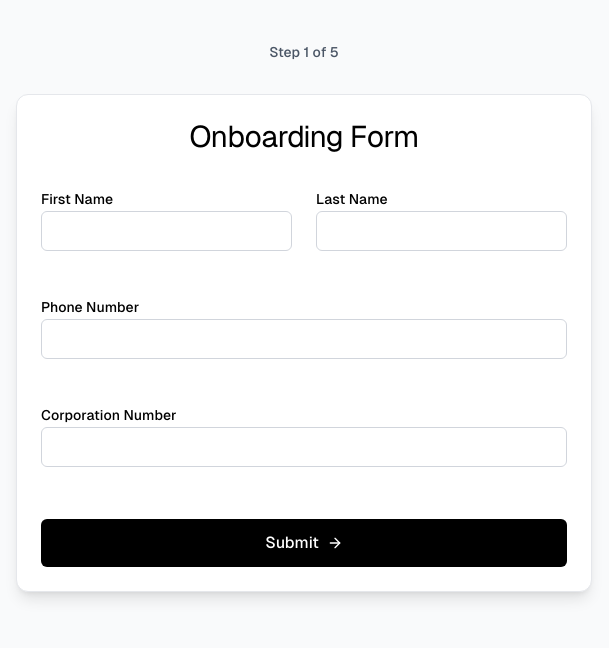
PersonalDetailsStep › displays API error message on failed submission
Fill form
In the field labelled "First Name": (166, 231) [41,211,292,251], type "John"
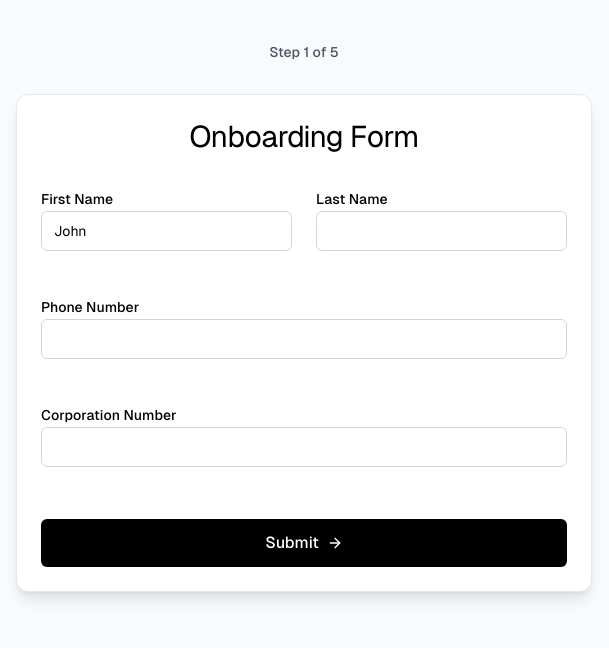
In the field labelled "Last Name": (442, 231) [316,211,567,251], type "Doe"
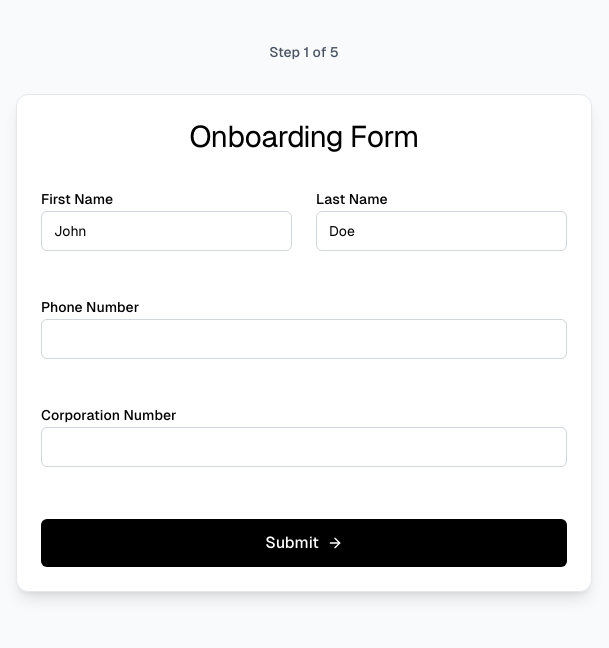
In the field labelled "Phone Number": (304, 339) [41,319,567,359], type "+13062776103"
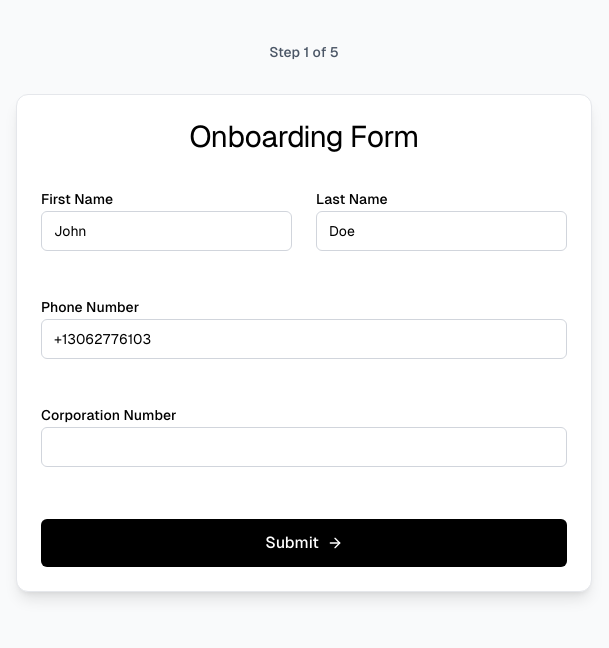
In the field labelled "Corporation Number": (304, 447) [41,427,567,467], type "123456789"
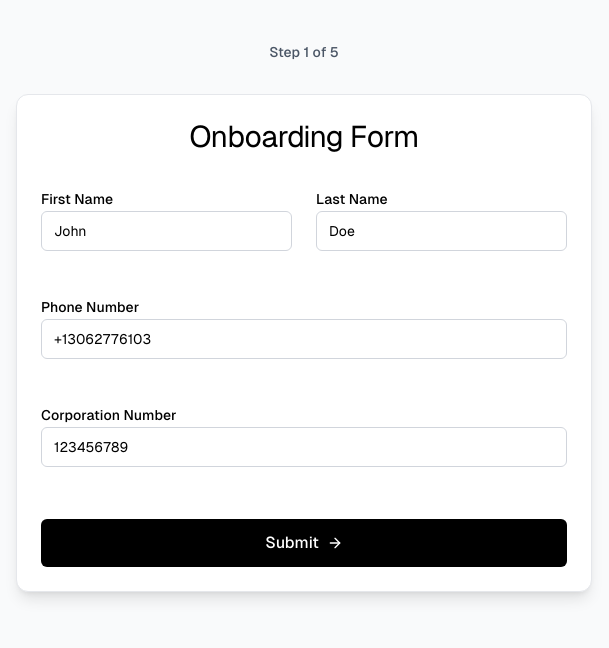
Leave the field labelled "Corporation Number", box [41,427,567,467]
Click the button "Submit": (304, 543) [41,519,567,567]
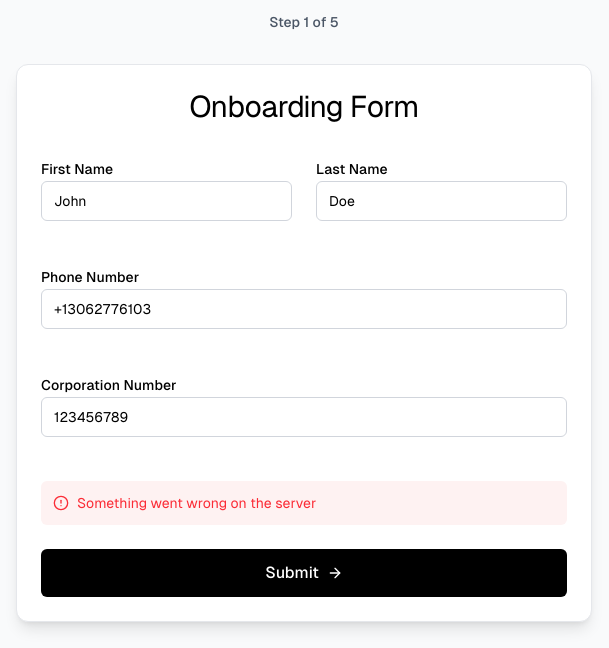
expect the text "Something went wrong on the server" is shown: met, box [41,481,567,525]
